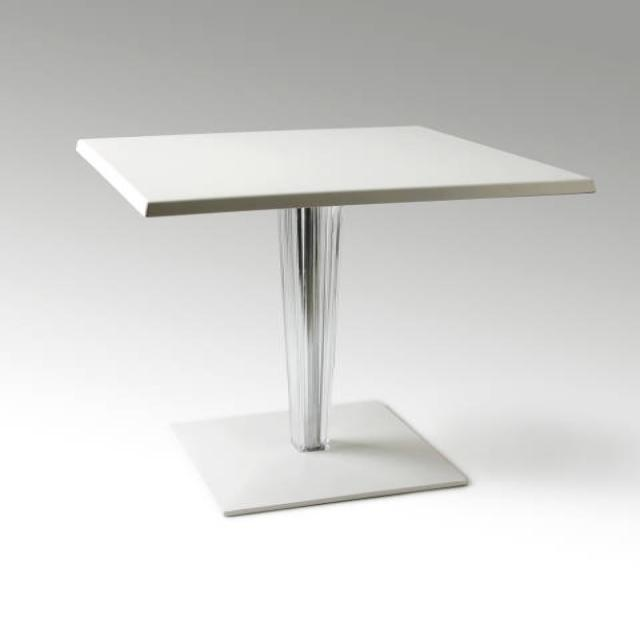table: (74, 122, 596, 516)
